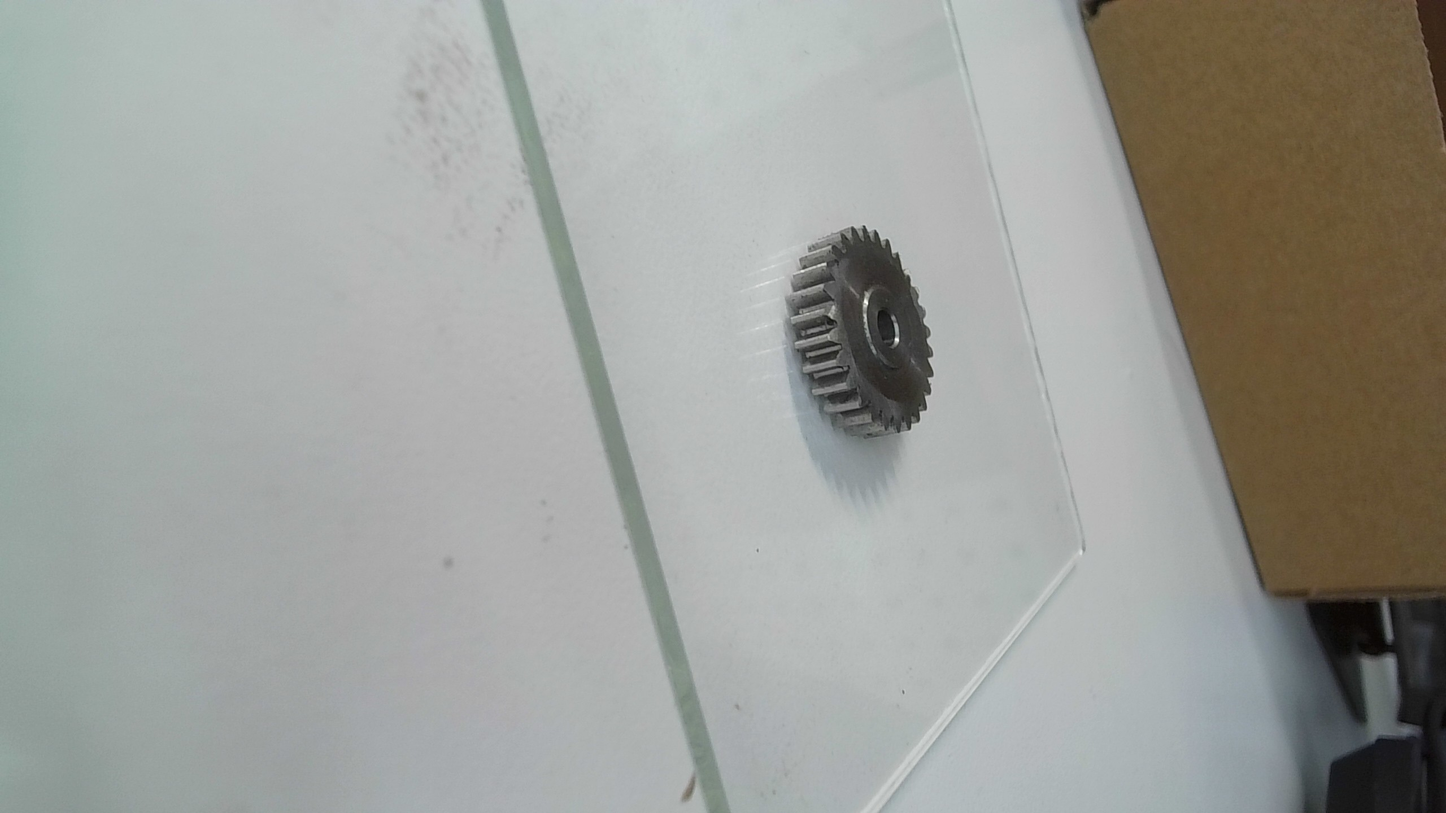gear: (788, 220, 937, 440)
